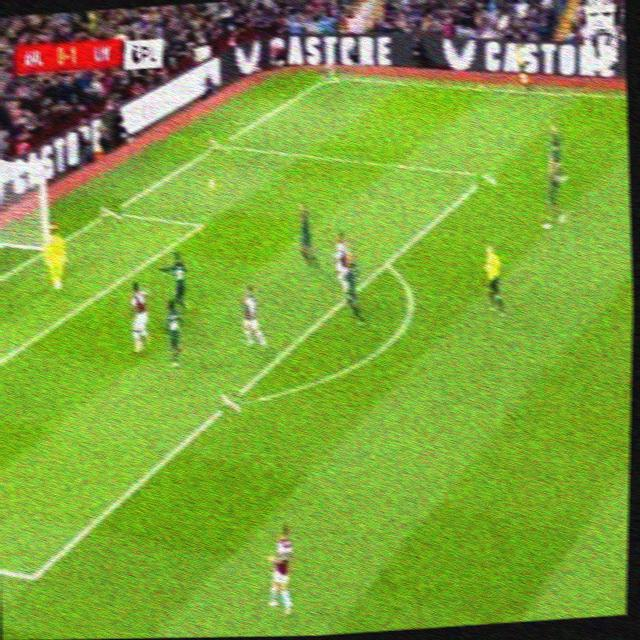bigarea_bottom_inner: (17, 557, 47, 594)
bigarea_top_inner: (476, 162, 497, 186)
bigarea_top_outter: (208, 133, 231, 154)
bottom_arc_area_intersection: (217, 386, 241, 416)
corner: (317, 67, 341, 86)
smallarea_top_inner: (188, 210, 211, 238)
smallarea_top_outter: (99, 198, 123, 224)
top_arc_area_intersection: (376, 252, 396, 275)
